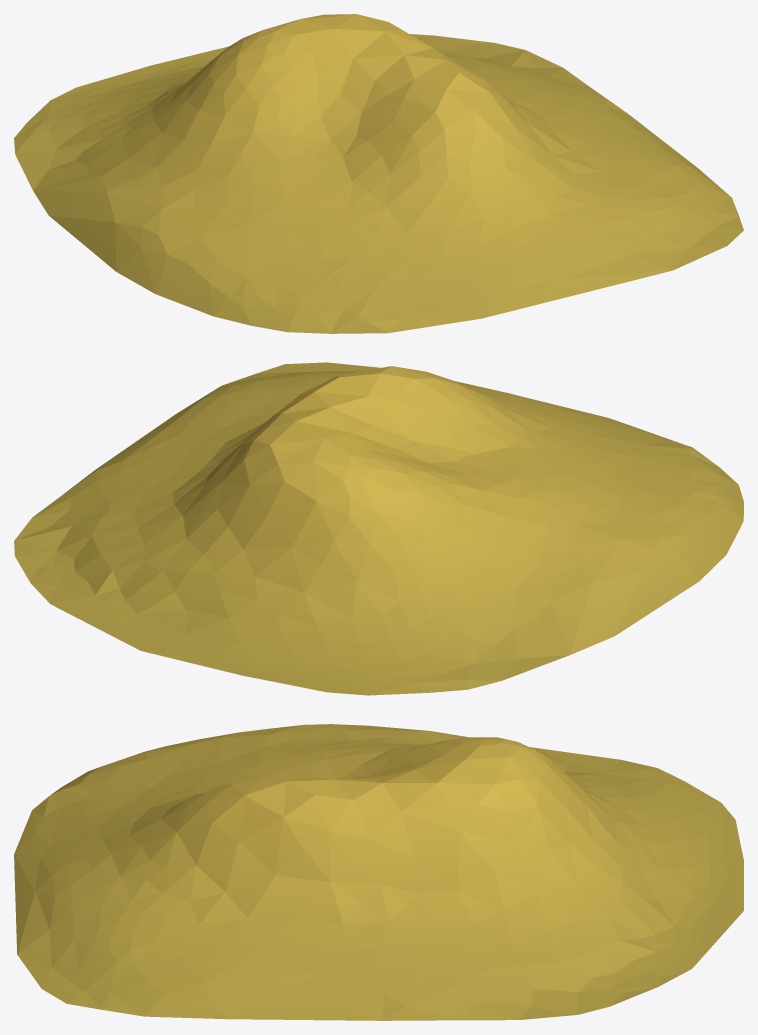
Rendered from Hill_10.glb.
3 views of the same model, one above another, from view 1: azimuth 30°, elevation 25°; view 2: azimuth 150°, elevation 25°; view 3: azimuth 270°, elevation 25° (orthographic). The views are drawn at different scales.
Parts seen in each view (by area): view 1: Hill_10; view 2: Hill_10; view 3: Hill_10.
Boxes of the visible parts, left/top/right/bottom form: Hill_10: left=14, top=14, right=743, bottom=333; Hill_10: left=14, top=362, right=743, bottom=695; Hill_10: left=14, top=724, right=743, bottom=1020.
Bounding box in the file's own units: 56.1 × 11.83 × 60.91.
1 material, 1 textured.
